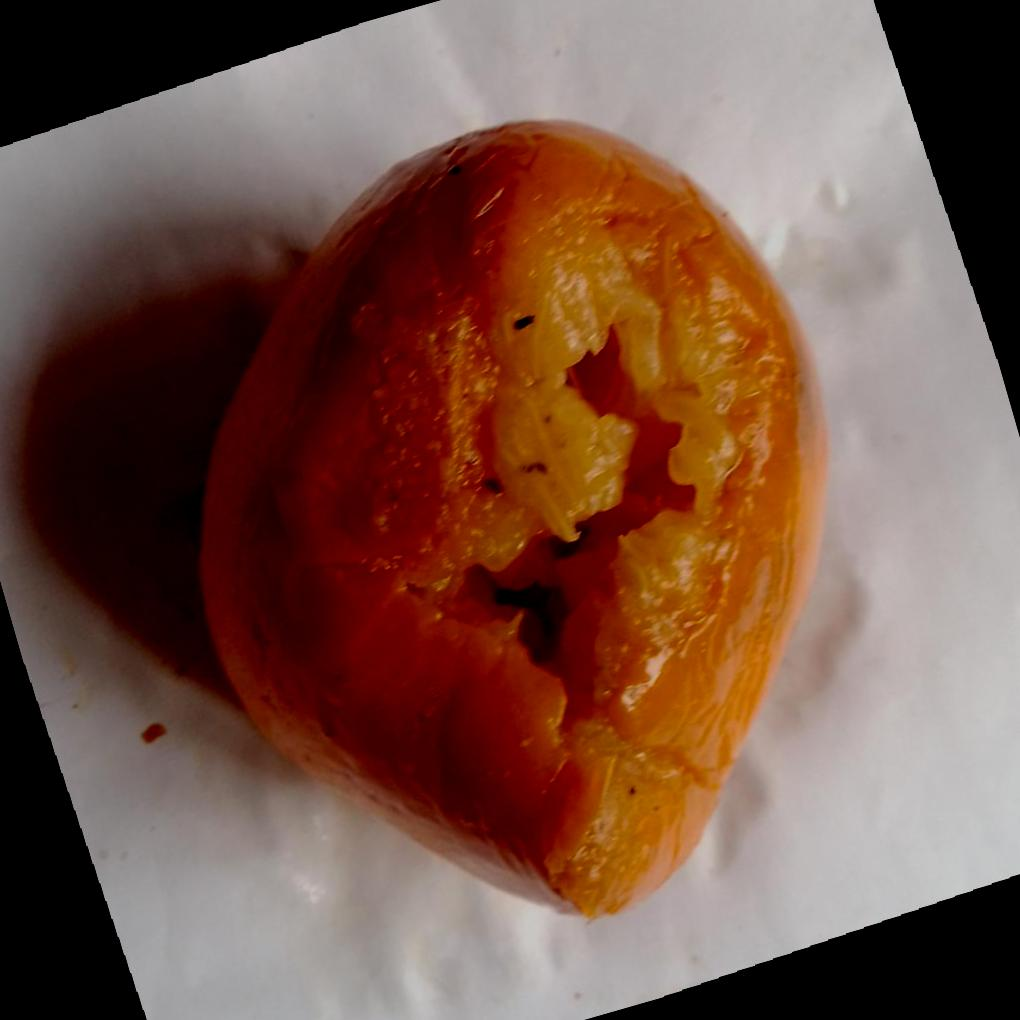FreshOrange: (197, 120, 827, 924)
